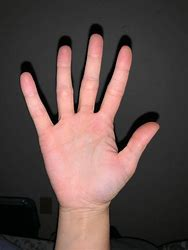palm: (18, 32, 161, 207)
